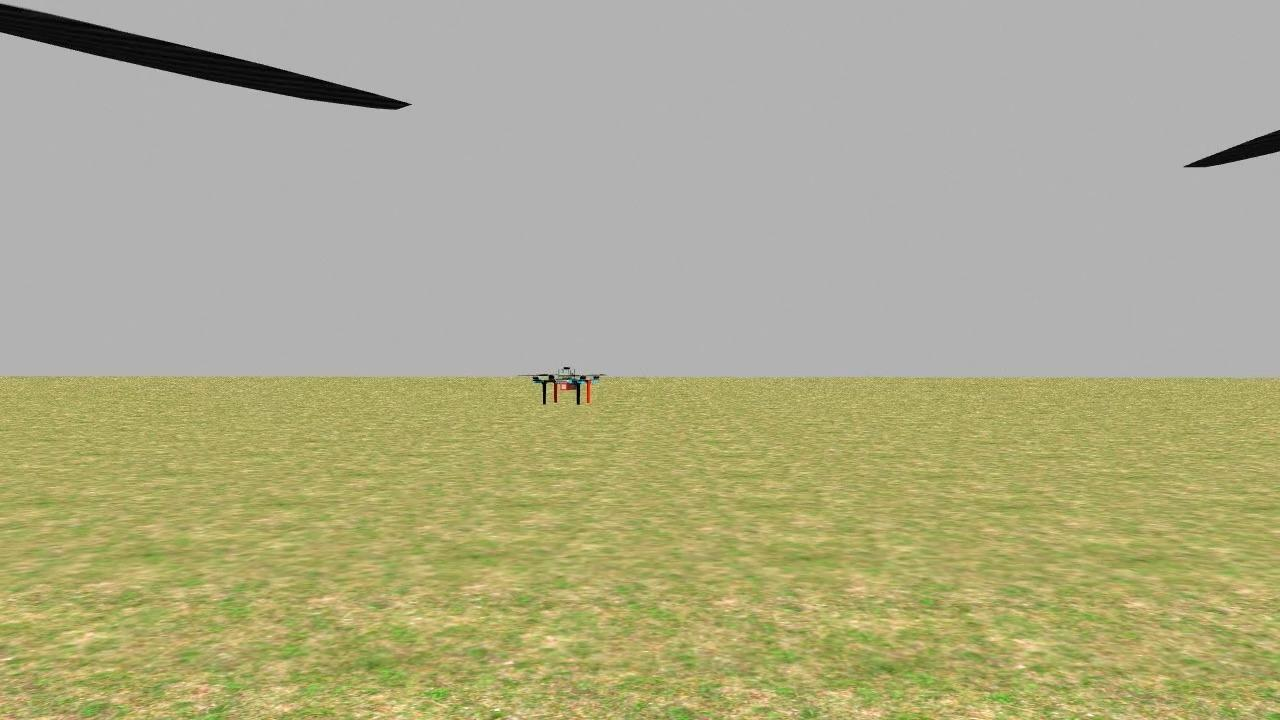UAV: (520, 340, 606, 409)
